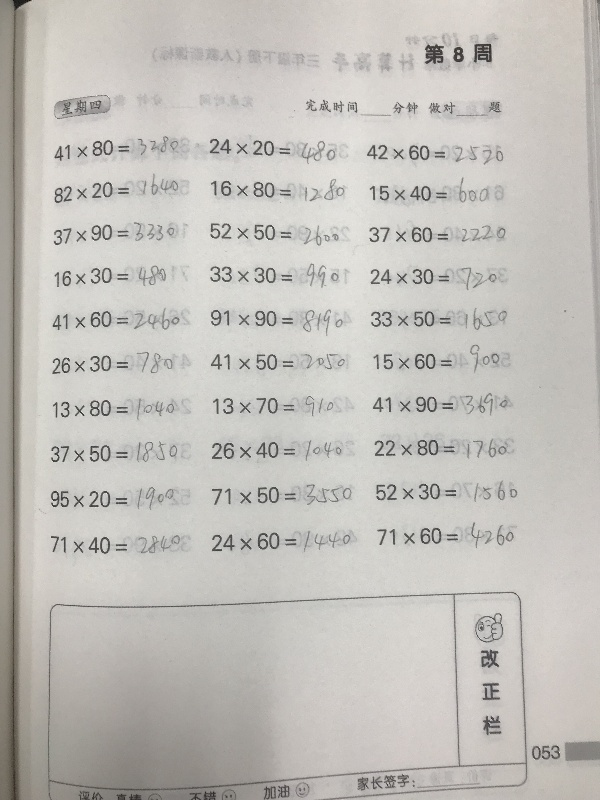equation: (370, 341, 515, 377), (374, 519, 522, 552), (207, 306, 347, 340), (367, 174, 508, 207), (207, 175, 348, 207), (193, 135, 339, 165), (368, 304, 512, 334), (209, 480, 356, 509), (369, 390, 514, 419), (367, 264, 507, 294), (372, 476, 519, 504), (209, 528, 355, 556), (208, 436, 346, 465), (47, 438, 187, 466), (49, 305, 184, 334), (363, 141, 507, 168), (49, 219, 191, 246), (371, 436, 518, 462), (49, 347, 176, 377), (206, 220, 342, 248), (42, 483, 180, 510), (50, 173, 182, 201), (48, 532, 187, 558), (49, 396, 182, 423), (206, 262, 344, 288), (210, 392, 338, 420), (207, 349, 349, 373), (50, 135, 185, 160), (50, 262, 169, 290), (365, 222, 509, 245)
